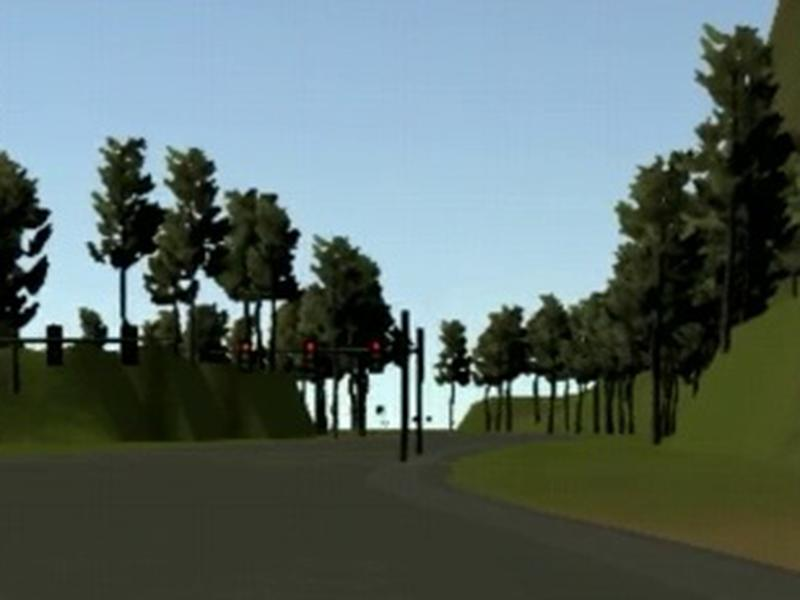Red: (303, 342, 318, 376), (238, 340, 253, 372), (369, 342, 382, 373)
